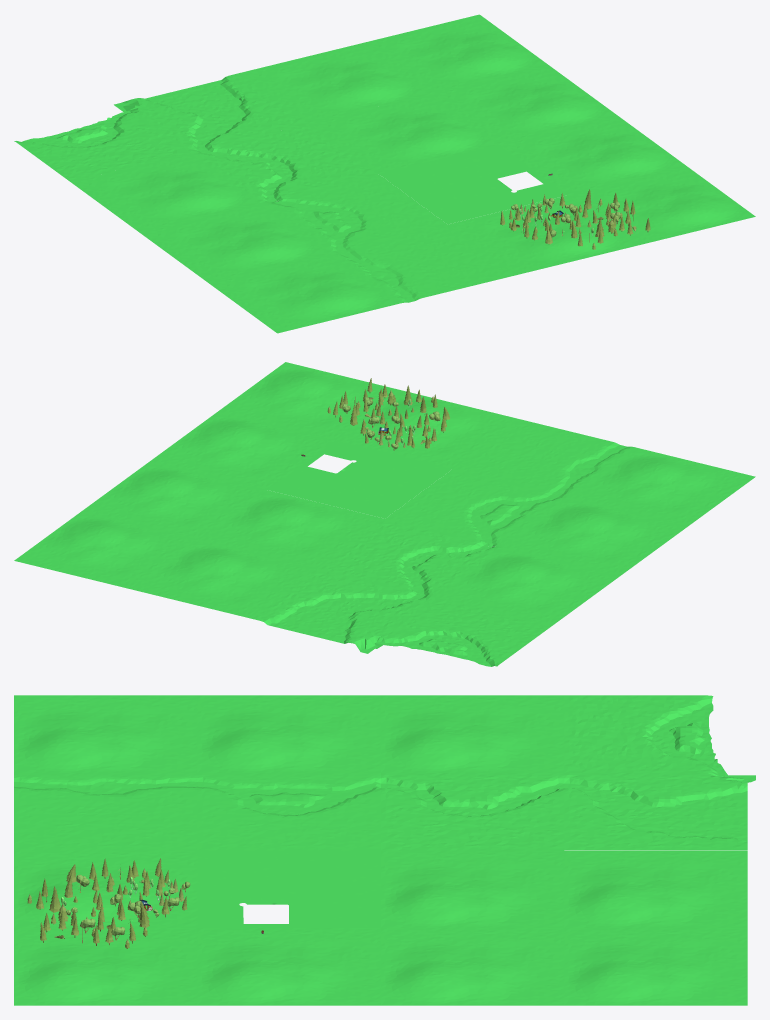
Rendered from landscape.glb.
3 renders of one model, top to bottom at view 1: azimuth 30°, elevation 25°; view 2: azimuth 150°, elevation 25°; view 3: azimuth 270°, elevation 25°, orthographic. The views are drawn at different scales.
Parts seen in each view (by area): view 1: MT_Terrain_L_a_06, MT_Terrain_L_a_06.003, MT_Terrain_L_a_06.011, MT_Terrain_L_a_06.001, MT_Terrain_L_a_06.004, MT_River_L_a_03, MT_Terrain_L_a_06.007, MT_River_L_a_02, MT_Terrain_L_a_06.002, MT_Terrain_L_a_06.009, MT_River_L_a_04, MT_River_End_L_b_01 (+4 smaller); view 2: MT_River_End_L_b_01, MT_River_L_a_04, MT_River_L_a_02, MT_Terrain_L_a_06.004, MT_Terrain_L_a_06.009, MT_Terrain_L_a_06.001, MT_Terrain_L_a_06.003, MT_Terrain_L_a_06.007, MT_River_L_a_03, MT_Terrain_L_a_06.011, MT_Terrain_L_a_06, MT_Terrain_L_a_06.002 (+4 smaller); view 3: MT_Terrain_L_a_06, MT_Terrain_L_a_06.001, MT_Terrain_L_a_06.003, MT_Terrain_L_a_06.004, MT_River_L_a_03, MT_Terrain_L_a_06.007, MT_River_L_a_02, MT_River_L_a_04, MT_Terrain_L_a_06.011, MT_Terrain_L_a_06.009, MT_Terrain_L_a_06.002, MT_River_End_L_b_01 (+4 smaller).
Boxes of the visible parts, bbox=[...] form: MT_Terrain_L_a_06: bbox=[139, 203, 327, 282]; MT_Terrain_L_a_06.003: bbox=[70, 152, 258, 232]; MT_Terrain_L_a_06.011: bbox=[240, 43, 428, 123]; MT_Terrain_L_a_06.001: bbox=[209, 254, 396, 333]; MT_Terrain_L_a_06.004: bbox=[429, 65, 617, 144]; MT_River_L_a_03: bbox=[190, 123, 377, 202]; MT_Terrain_L_a_06.007: bbox=[360, 14, 547, 93]; MT_River_L_a_02: bbox=[328, 224, 516, 304]; MT_Terrain_L_a_06.002: bbox=[498, 115, 686, 195]; MT_Terrain_L_a_06.009: bbox=[310, 94, 497, 173]; MT_River_L_a_04: bbox=[259, 174, 447, 253]; MT_River_End_L_b_01: bbox=[114, 73, 308, 152]; MT_River_End_L_b_01: bbox=[249, 568, 434, 653]; MT_River_L_a_04: bbox=[385, 469, 569, 547]; MT_River_L_a_02: bbox=[453, 419, 637, 497]; MT_Terrain_L_a_06.004: bbox=[82, 461, 266, 539]; MT_Terrain_L_a_06.009: bbox=[200, 490, 384, 568]; MT_Terrain_L_a_06.001: bbox=[571, 448, 755, 526]; MT_Terrain_L_a_06.003: bbox=[435, 547, 619, 625]; MT_Terrain_L_a_06.007: bbox=[14, 511, 198, 589]; MT_River_L_a_03: bbox=[317, 519, 502, 596]; MT_Terrain_L_a_06.011: bbox=[132, 540, 316, 617]; MT_Terrain_L_a_06: bbox=[503, 498, 687, 575]; MT_Terrain_L_a_06.002: bbox=[150, 412, 334, 489]; MT_Terrain_L_a_06: bbox=[197, 695, 380, 772]; MT_Terrain_L_a_06.001: bbox=[14, 695, 197, 772]; MT_Terrain_L_a_06.003: bbox=[381, 695, 564, 772]; MT_Terrain_L_a_06.004: bbox=[381, 928, 564, 1005]; MT_River_L_a_03: bbox=[381, 773, 564, 850]; MT_Terrain_L_a_06.007: bbox=[564, 928, 747, 1005]; MT_River_L_a_02: bbox=[14, 773, 197, 850]; MT_River_L_a_04: bbox=[197, 773, 380, 850]; MT_Terrain_L_a_06.011: bbox=[564, 850, 747, 927]; MT_Terrain_L_a_06.009: bbox=[381, 850, 564, 927]; MT_Terrain_L_a_06.002: bbox=[197, 928, 380, 1005]; MT_River_End_L_b_01: bbox=[564, 773, 755, 850].
Size of what is drawn, in the model's own units: 800 by 44.93 by 809.
Materials: 5 (4 with a texture image).
